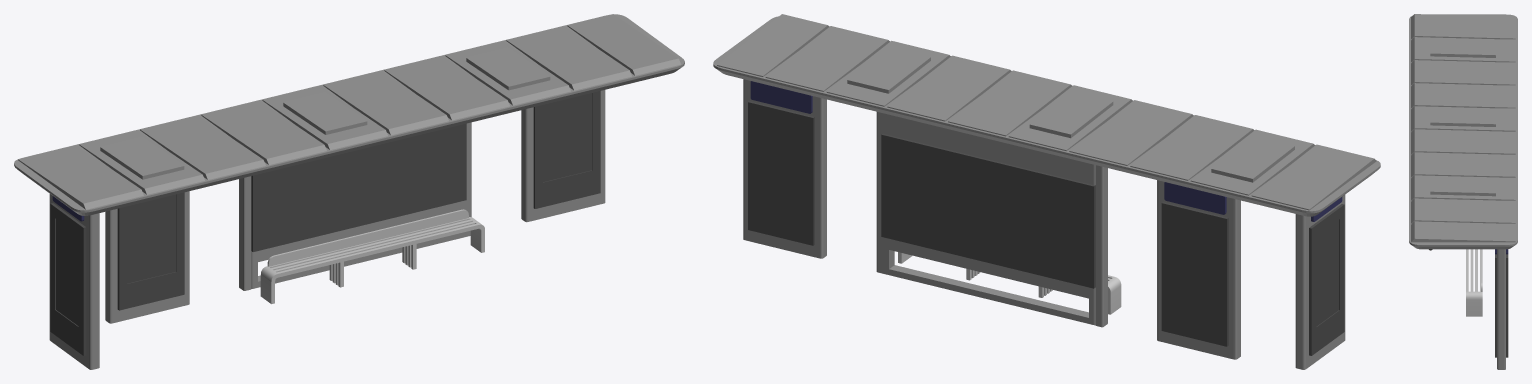
The model's file is BusStation.glb.
3 renders of one model, left to right at view 1: azimuth 30°, elevation 25°; view 2: azimuth 150°, elevation 25°; view 3: azimuth 270°, elevation 25°, orthographic. The views are drawn at different scales.
Visible parts, largest first — view 1: Box001.1, Box016.13, Box003.3, Box007.6, Box020.15, Box010.8, Box015.12, Box009.7, Box002.2, Box012.9, Box017.14; view 2: Box001.1, Box016.13, Box015.12, Box007.6, Box003.3, Box010.8, Box002.2, Box009.7, Box012.9, Box017.14, Box004.4, Box006.5 (+1 smaller); view 3: Box001.1, Box002.2, Box020.15, Box003.3.
Part boxes in pixels (left/top/right/bottom): Box001.1: left=14, top=14, right=684, bottom=215; Box016.13: left=251, top=123, right=466, bottom=251; Box003.3: left=533, top=91, right=600, bottom=208; Box007.6: left=117, top=192, right=184, bottom=310; Box020.15: left=260, top=209, right=484, bottom=304; Box010.8: left=50, top=203, right=86, bottom=355; Box015.12: left=251, top=122, right=471, bottom=288; Box009.7: left=105, top=191, right=189, bottom=323; Box002.2: left=521, top=90, right=605, bottom=222; Box012.9: left=49, top=194, right=99, bottom=369; Box017.14: left=239, top=176, right=251, bottom=290; Box001.1: left=713, top=14, right=1380, bottom=216; Box016.13: left=881, top=133, right=1095, bottom=288; Box015.12: left=876, top=112, right=1095, bottom=325; Box007.6: left=1161, top=202, right=1228, bottom=346; Box003.3: left=748, top=101, right=814, bottom=245; Box010.8: left=1309, top=204, right=1344, bottom=355; Box002.2: left=743, top=79, right=826, bottom=258; Box009.7: left=1157, top=180, right=1240, bottom=359; Box012.9: left=1295, top=195, right=1345, bottom=369; Box017.14: left=1095, top=165, right=1107, bottom=327; Box004.4: left=750, top=81, right=812, bottom=113; Box006.5: left=1164, top=182, right=1226, bottom=214; Box001.1: left=1409, top=14, right=1517, bottom=249; Box002.2: left=1497, top=249, right=1505, bottom=369; Box020.15: left=1466, top=249, right=1482, bottom=316; Box003.3: left=1495, top=254, right=1508, bottom=357.
Size of the model in its own units: 10.01 by 2.85 by 2.
